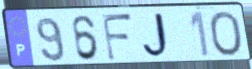1: (188, 9, 211, 60)
6: (70, 13, 100, 63)
9: (34, 15, 67, 64)
F: (100, 12, 135, 63)
J: (141, 11, 174, 61)
O: (207, 10, 245, 58)
